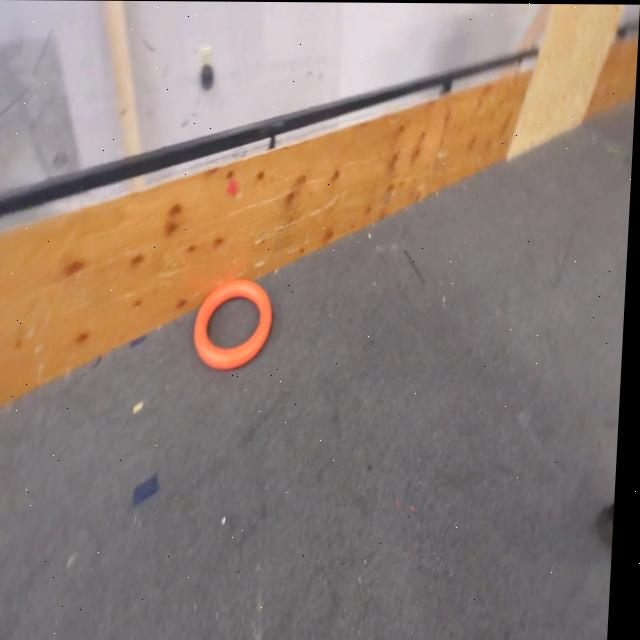note: (197, 281, 279, 370)
